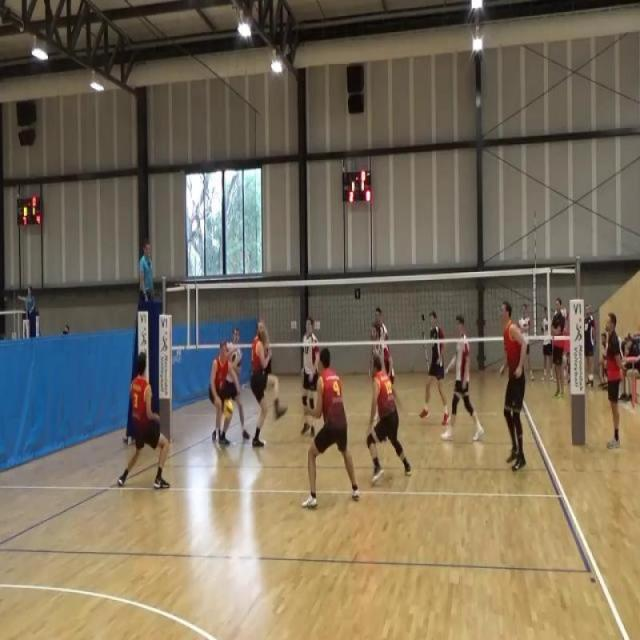volleyball: (222, 398, 234, 420)
